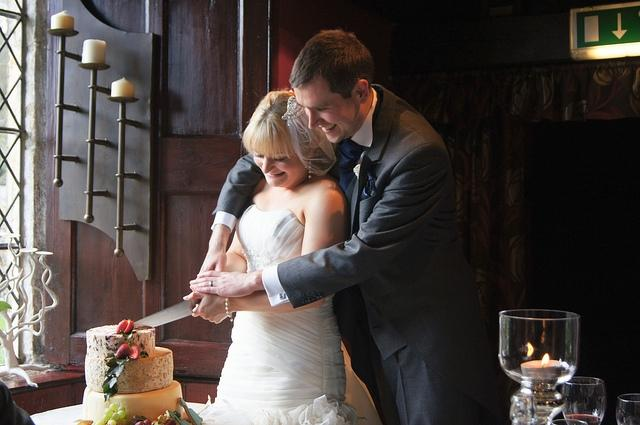grape: (104, 408, 113, 417), (102, 414, 110, 422), (117, 410, 125, 418), (110, 404, 118, 412), (116, 406, 125, 413), (107, 419, 117, 425), (144, 419, 152, 425), (136, 421, 146, 425), (96, 420, 104, 425)
strawberry: (116, 318, 134, 334), (115, 344, 132, 360), (128, 344, 140, 360)
